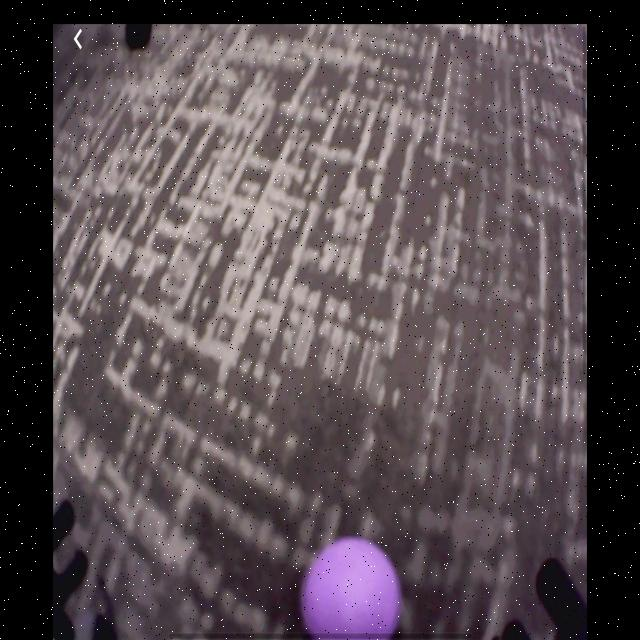ball: (301, 541, 405, 639)
